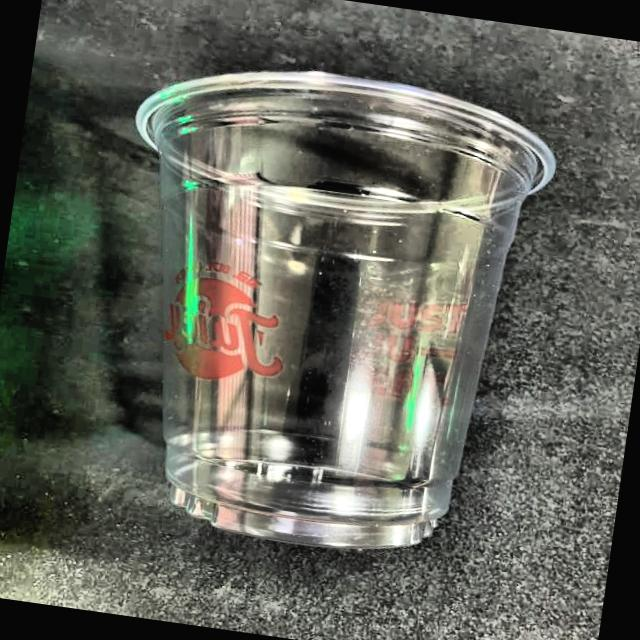plastic cup: (76, 40, 566, 578)
